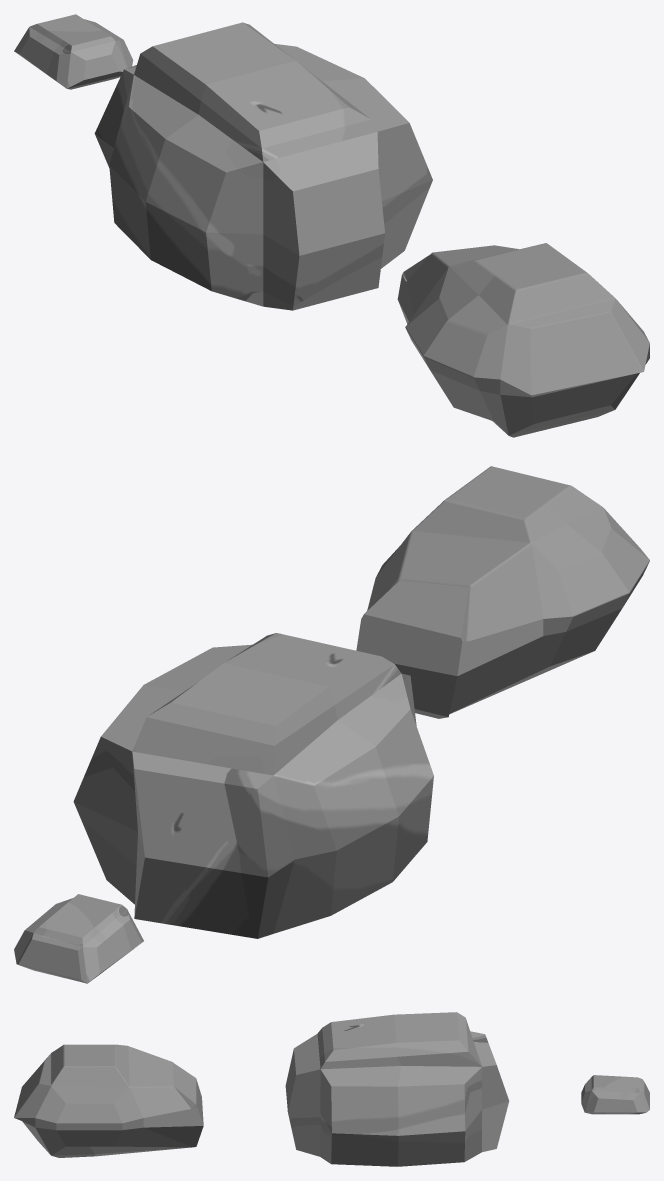
Rendered from Rock and Stone.fbx.
The picture shows the model from 3 angles, top to bottom: view 1: azimuth 30°, elevation 25°; view 2: azimuth 150°, elevation 25°; view 3: azimuth 270°, elevation 25°; orthographic projection. The views are drawn at different scales.
Parts seen in each view (by area): view 1: stone2, stone1, stone3; view 2: stone2, stone1, stone3; view 3: stone2, stone1, stone3.
Part boxes in pixels (x1,y1,x2,y2): stone2: [94, 22, 432, 310]; stone1: [397, 243, 649, 437]; stone3: [14, 14, 133, 89]; stone2: [73, 633, 433, 938]; stone1: [356, 466, 649, 718]; stone3: [14, 894, 143, 983]; stone2: [285, 1012, 509, 1166]; stone1: [14, 1044, 203, 1157]; stone3: [581, 1075, 649, 1114].
Size of the model in its own units: 4.63 by 16.44 by 3.37.
1 material, 1 textured.
